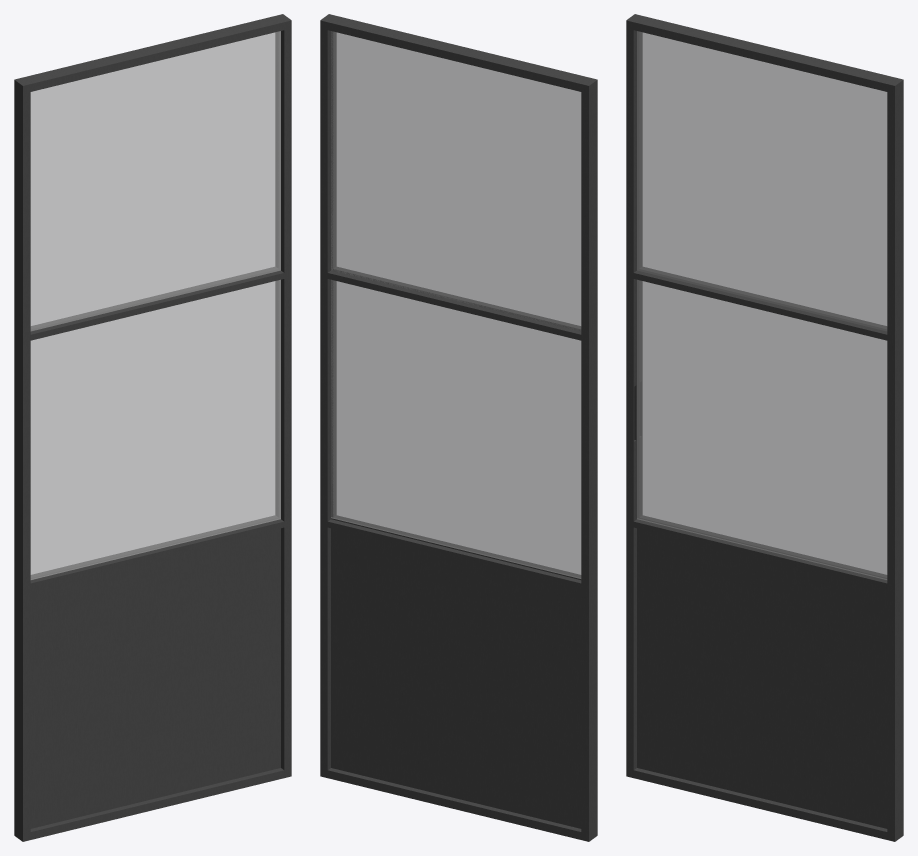
The model's file is 3 Door Blender.glb.
The picture shows the model from 3 angles, left to right: view 1: azimuth 30°, elevation 25°; view 2: azimuth 150°, elevation 25°; view 3: azimuth 330°, elevation 25°; orthographic projection.
Visible parts, largest first — view 1: group_1, group_0, group_5, group_2, group_4; view 2: group_1, group_3, group_4, group_2, group_5; view 3: group_1, group_0, group_5, group_2, group_4.
Boxes of the visible parts, x1,y1,x2,y2 form: group_1: (30,31,280,579); group_0: (30,528,280,828); group_5: (24,23,289,839); group_2: (14,14,291,841); group_4: (31,31,280,579); group_1: (331,31,581,578); group_3: (331,528,581,828); group_4: (322,23,587,839); group_2: (320,14,597,841); group_5: (331,31,581,579); group_1: (637,31,887,579); group_0: (637,528,887,828); group_5: (628,23,893,839); group_2: (626,14,903,841); group_4: (637,31,886,579).
Bounding box in the file's own units: 0.9017 × 2.42 × 0.0508.
Materials: 2 (1 with a texture image).
